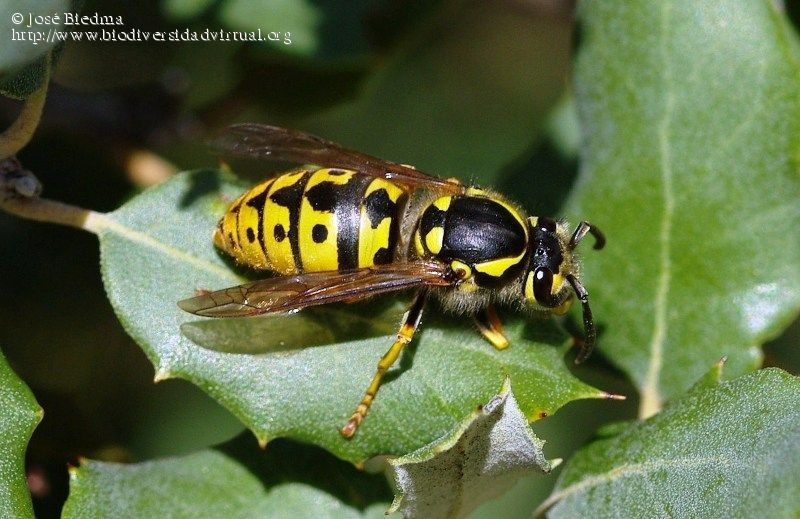chax: (178, 108, 648, 434)
